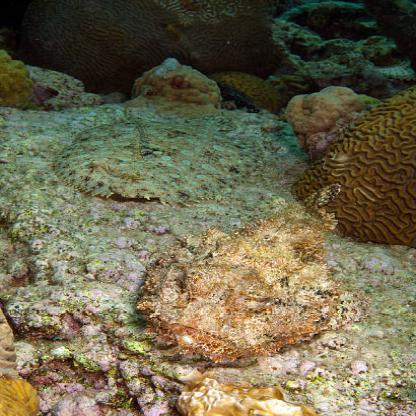flounder: (130, 188, 390, 367), (49, 108, 253, 202)
